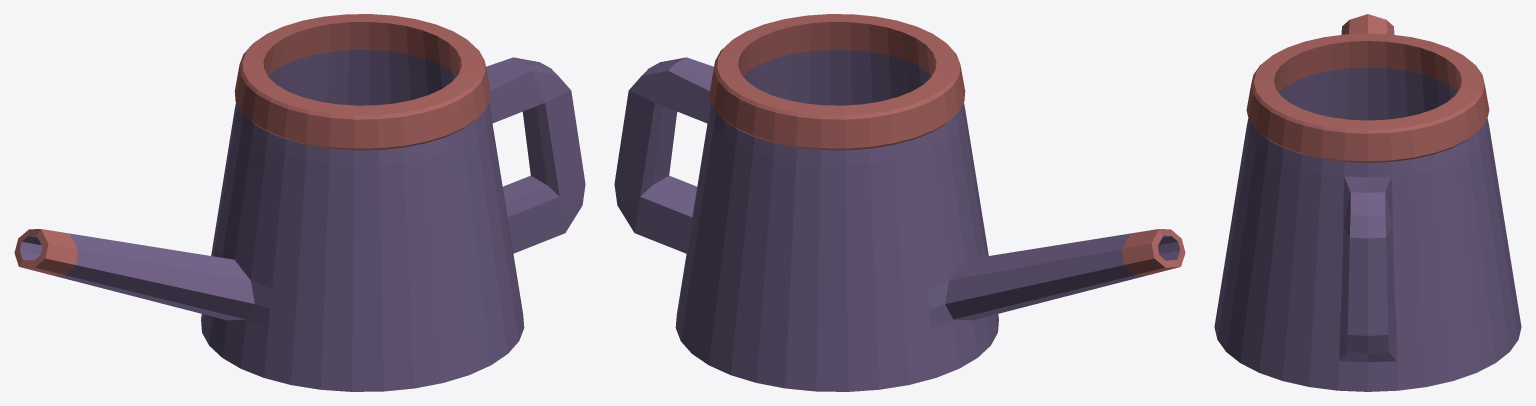
The model's file is plant_waterer_garden.fbx.
The picture shows the model from 3 angles, left to right: view 1: azimuth 30°, elevation 25°; view 2: azimuth 150°, elevation 25°; view 3: azimuth 270°, elevation 25°; orthographic projection. The views are drawn at different scales.
Parts seen in each view (by area): view 1: plant_waterer_garden; view 2: plant_waterer_garden; view 3: plant_waterer_garden.
Part boxes in pixels (left/top/right/bottom): plant_waterer_garden: left=14, top=14, right=585, bottom=391; plant_waterer_garden: left=614, top=14, right=1185, bottom=391; plant_waterer_garden: left=1214, top=14, right=1521, bottom=391.
Size of the model in its own units: 73.31 by 32.61 by 36.84.
